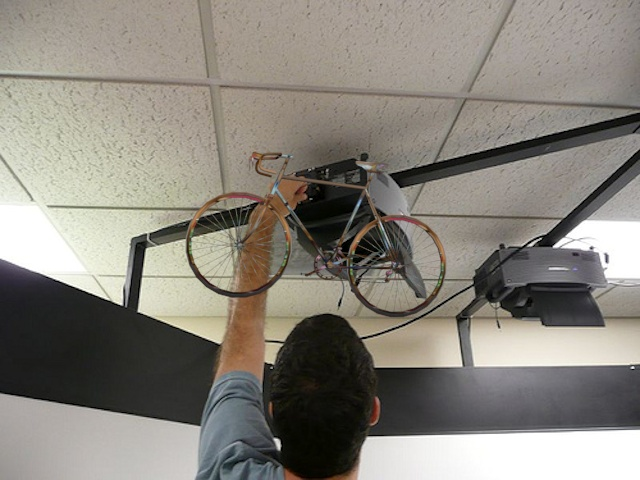bike: (176, 144, 449, 321)
